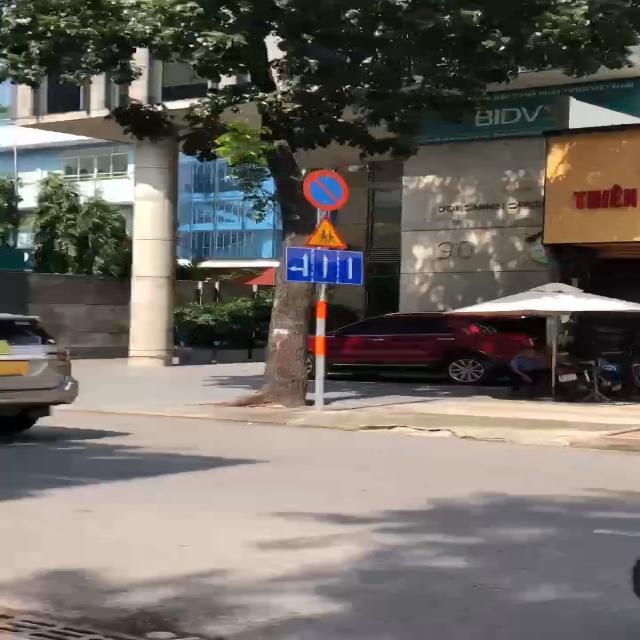Bien bao tre em: (298, 210, 354, 252)
